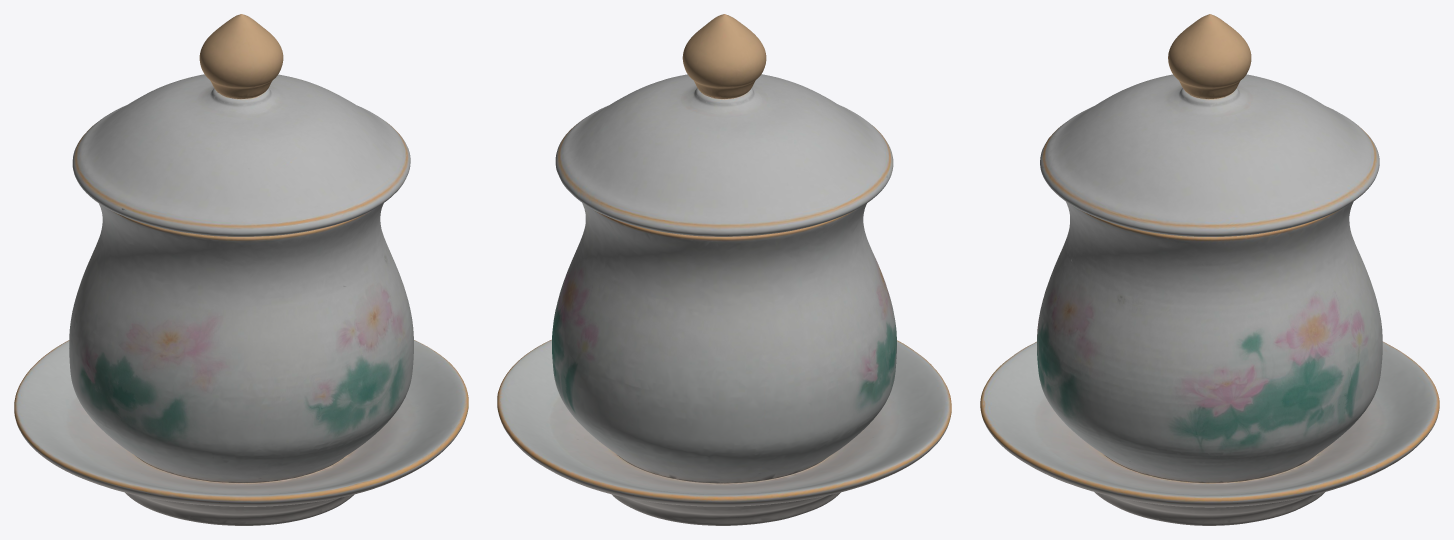
File: porcelain sugar jar 3d model.glb
3 renders of one model, left to right at view 1: azimuth 30°, elevation 25°; view 2: azimuth 150°, elevation 25°; view 3: azimuth 270°, elevation 25°, orthographic.
Parts seen in each view (by area): view 1: tripo_node_c2ece3b2-7fc8-404f-b031-e1c7ee32b4c5; view 2: tripo_node_c2ece3b2-7fc8-404f-b031-e1c7ee32b4c5; view 3: tripo_node_c2ece3b2-7fc8-404f-b031-e1c7ee32b4c5.
Part boxes in pixels (bbox=[...]): tripo_node_c2ece3b2-7fc8-404f-b031-e1c7ee32b4c5: bbox=[14, 14, 468, 525]; tripo_node_c2ece3b2-7fc8-404f-b031-e1c7ee32b4c5: bbox=[497, 14, 951, 525]; tripo_node_c2ece3b2-7fc8-404f-b031-e1c7ee32b4c5: bbox=[980, 14, 1439, 525].
Bounding box in the file's own units: 0.9034 × 1 × 0.9032.
Materials: 1 (1 with a texture image).
